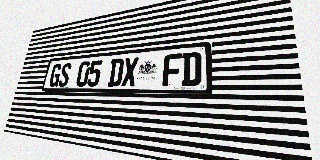0: (75, 61, 91, 87)
5: (87, 60, 103, 87)
D: (181, 51, 202, 86), (107, 58, 124, 87)
F: (162, 53, 182, 86)
G: (48, 63, 63, 87)
S: (57, 63, 72, 87)
X: (121, 57, 139, 86)
